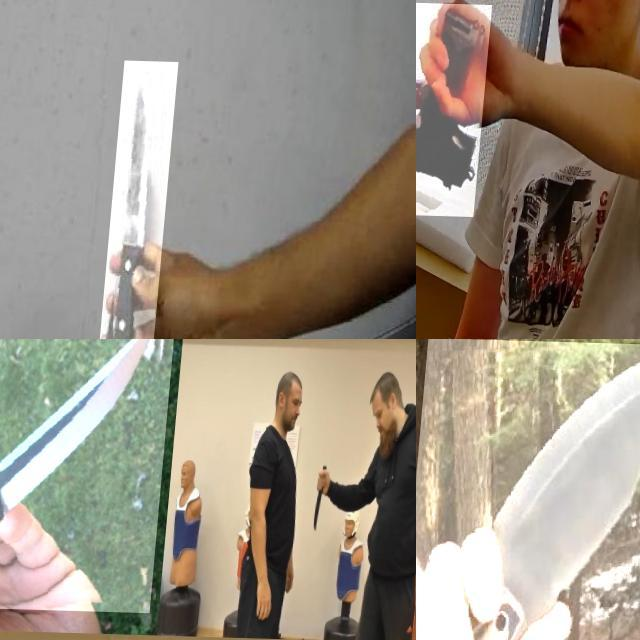-: (416, 339, 640, 640), (0, 339, 176, 611), (105, 58, 183, 339), (314, 458, 330, 530)
gun-knife-thesis - v11 Yolov5 augmented: (416, 0, 505, 215)
